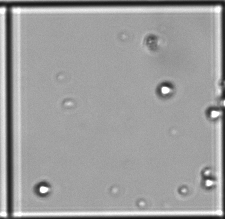Dead Cell: (145, 34, 159, 49)
Living Cell: (35, 182, 51, 197), (157, 82, 173, 97), (204, 106, 220, 120), (203, 178, 215, 190), (202, 168, 213, 178)
